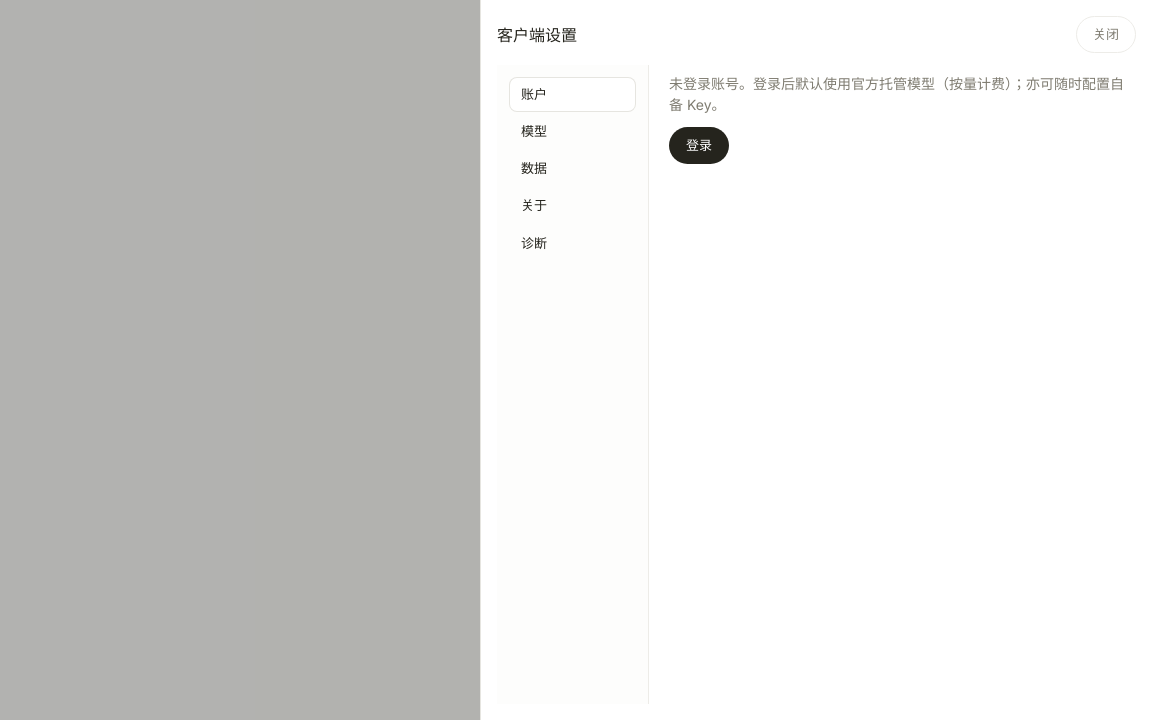
Test: DesktopSettingsDrawer › 模型 section prefers an active BYOK secret over the official relay (BYOK 优先序)
Click the button "模型".
click(572, 132)  # box [509,114,636,150]
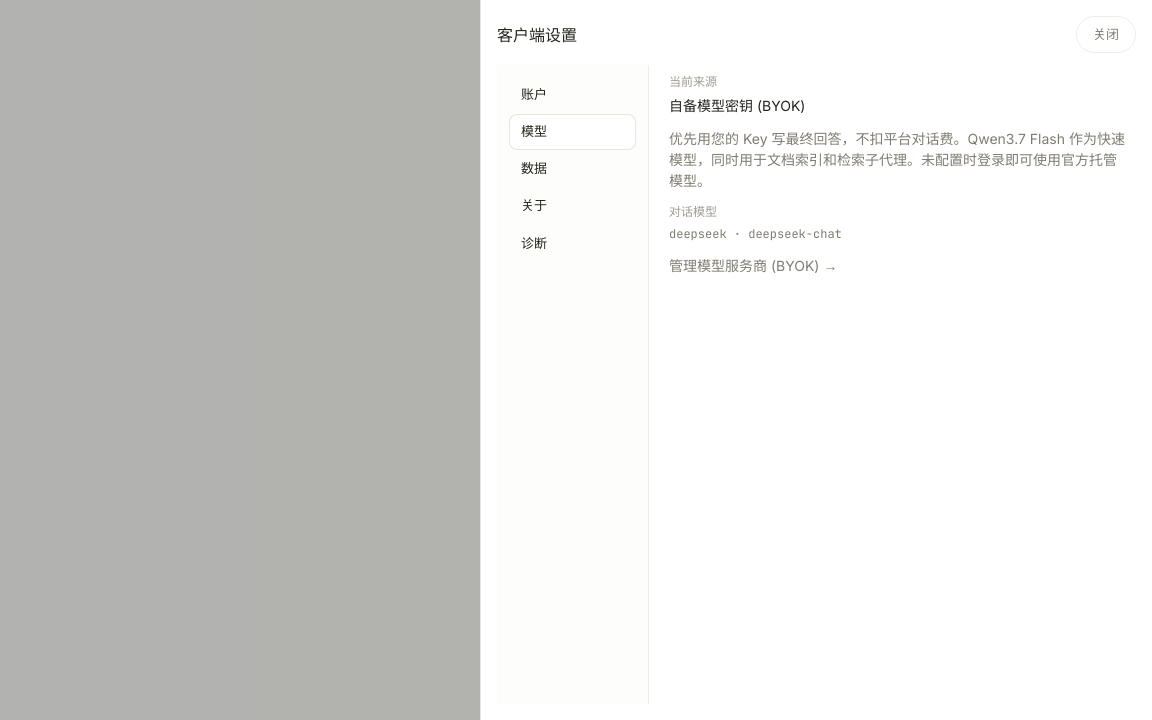
Expected: the text "自备模型密钥 (BYOK)" is shown, [669,97,806,114]
Expected: the text "deepseek · deepseek-chat" is shown, [669,226,842,242]
Expected: the text "官方托管模型（按量计费）" is gone
